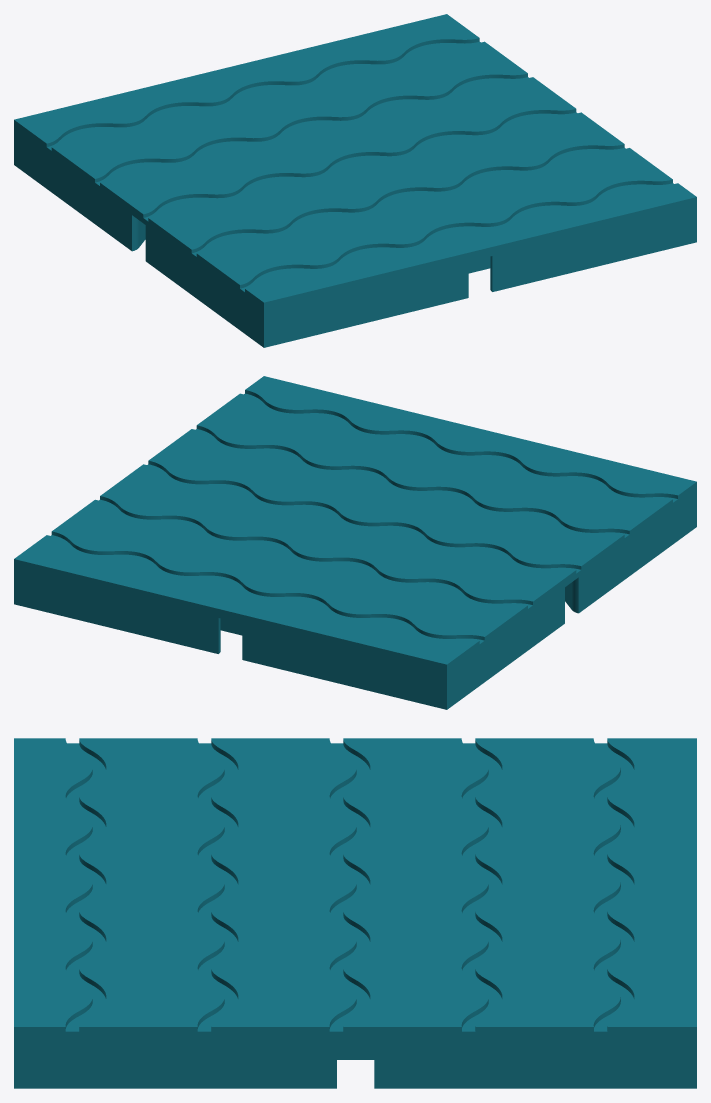
The model's file is 5x5 Water.obj.
3 renders of one model, top to bottom at view 1: azimuth 30°, elevation 25°; view 2: azimuth 150°, elevation 25°; view 3: azimuth 270°, elevation 25°, orthographic. The views are drawn at different scales.
Parts seen in each view (by area): view 1: Körper1; view 2: Körper1; view 3: Körper1.
Boxes of the visible parts, bbox=[...] form: Körper1: bbox=[14, 14, 696, 347]; Körper1: bbox=[14, 376, 696, 709]; Körper1: bbox=[14, 738, 696, 1088].
Bounding box in the file's own units: 50 × 5 × 50.
